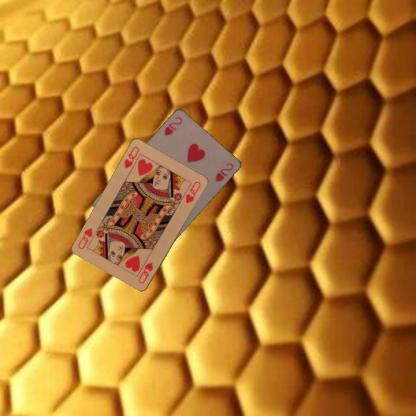2h: (162, 114, 184, 136)
Qh: (122, 144, 140, 170), (136, 260, 154, 285)
